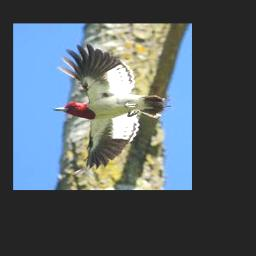Woodpecker: (53, 44, 170, 174)
